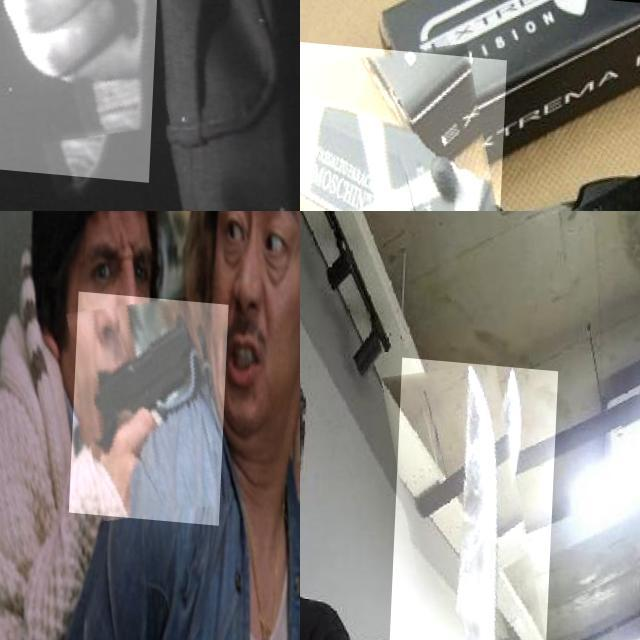-: (391, 350, 560, 640), (300, 35, 507, 211)
gun-knife-thesis - v11 Yolov5 augmented: (0, 0, 195, 211), (73, 287, 231, 518)
